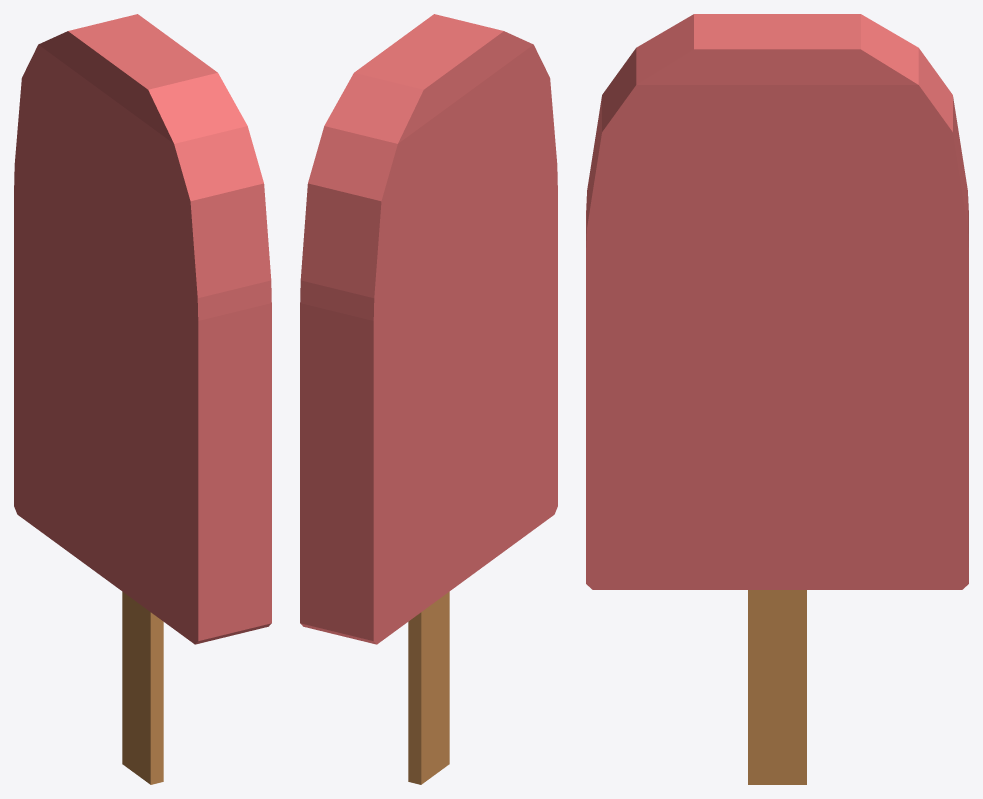
File: ice_cream_03.fbx
3 renders of one model, left to right at view 1: azimuth 30°, elevation 25°; view 2: azimuth 150°, elevation 25°; view 3: azimuth 270°, elevation 25°, orthographic. The views are drawn at different scales.
Parts seen in each view (by area): view 1: Cube.004; view 2: Cube.004; view 3: Cube.004.
Boxes of the visible parts, <box> form: Cube.004: <box>14,14,271,784</box>; Cube.004: <box>300,14,557,784</box>; Cube.004: <box>586,14,968,784</box>.
Size of the model in its own units: 23.24 by 218 by 101.
